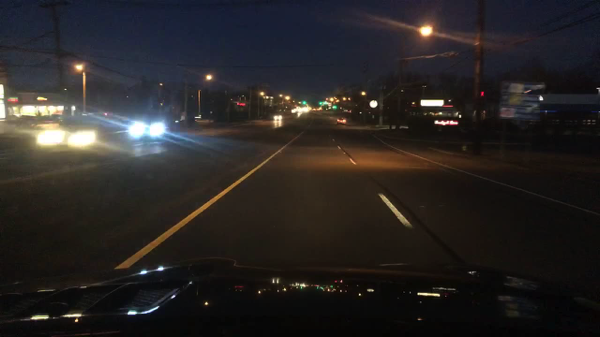car: (37, 129, 97, 148), (128, 119, 169, 139), (336, 116, 347, 124), (272, 114, 282, 121), (297, 108, 306, 113), (291, 109, 296, 115)
traffic light: (479, 89, 485, 97), (301, 100, 307, 106), (332, 104, 337, 109), (318, 101, 324, 104)
